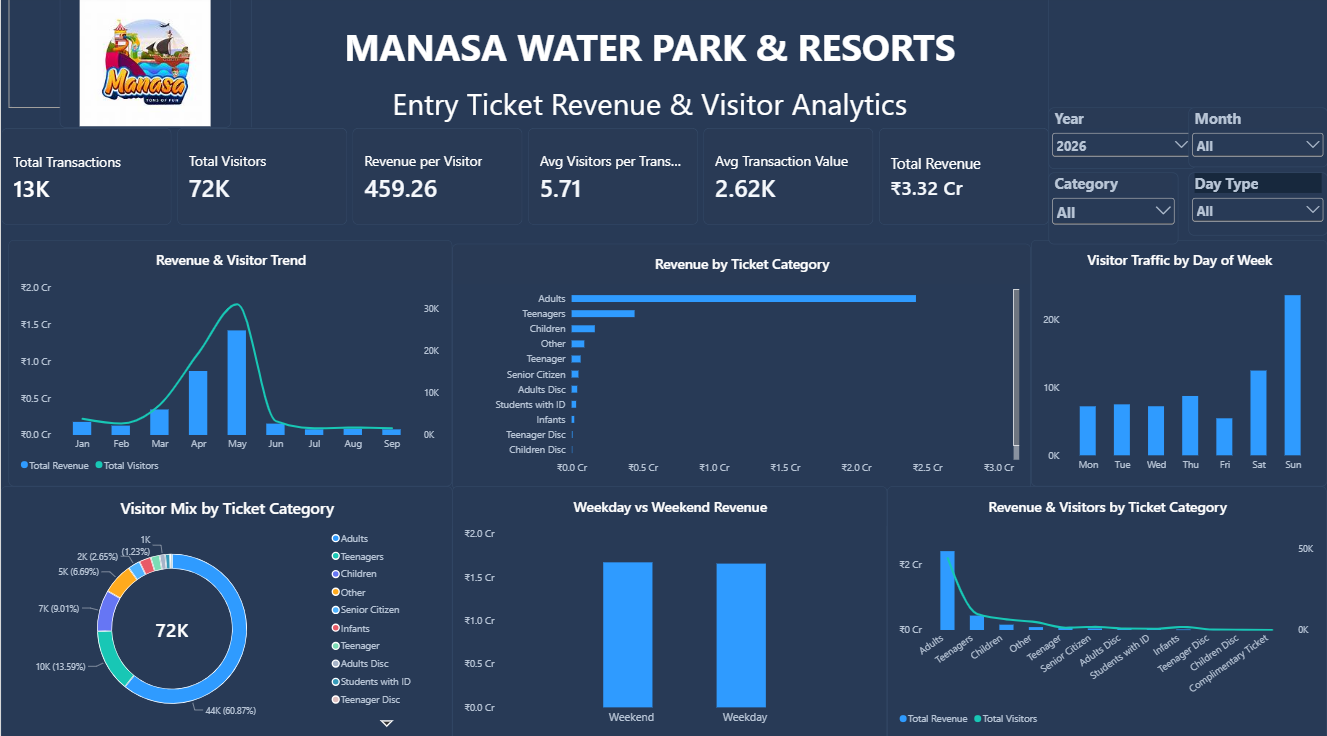

The dashboard page shown, as its layout file describes it:
{"tool":"powerbi","page":{"name":"Page 1","canvas":[1920,1080],"ordinal":0},"visuals":[{"type":"textbox","box":[10.9,0,148.4,162.9],"z":0},{"type":"textbox","box":[361.5,0,1155.2,206.6],"z":1000},{"type":"cardVisual","fields":{"Data":["Ticket Wise Sales (2).Total Transactions","Ticket Wise Sales (2).Total Visitors","Ticket Wise Sales (2).Revenue per Visitor","Ticket Wise Sales (2).Avg Visitors per Transaction","Ticket Wise Sales (2).Avg Transaction Value","2026.Total Revenue Cr"]},"box":[0,191.8,1519.2,142.8],"z":2000},{"type":"lineClusteredColumnComboChart","title":"Revenue & Visitor Trend","fields":{"Category":["Calendar.Month"],"Y":["2026.Total Revenue Cr"],"Y2":["Ticket Wise Sales (2).Total Visitors"]},"box":[10.8,354.9,642.8,357.1],"z":3000},{"type":"clusteredBarChart","title":"Revenue by Ticket Category","fields":{"Category":["All Ticket Sales.Category"],"Y":["2026.Total Revenue Cr"]},"box":[653.3,360.1,837.9,356.5],"z":4000},{"type":"donutChart","title":"Visitor Mix by Ticket Category","fields":{"Category":["All Ticket Sales.Category"],"Y":["Ticket Wise Sales (2).Total Visitors"]},"box":[0,712,653.6,367.9],"z":5000},{"type":"columnChart","title":"Weekday vs Weekend Revenue","fields":{"Category":["Calendar.Day Type"],"Y":["2026.Total Revenue Cr"]},"box":[653.6,712,629.8,367.9],"z":6000},{"type":"columnChart","title":"Visitor Traffic by Day of Week","fields":{"Category":["Calendar.Day Name"],"Y":["Ticket Wise Sales (2).Total Visitors"]},"box":[1491.2,354.7,428.9,356.5],"z":7000},{"type":"lineStackedColumnComboChart","title":"Revenue & Visitors by Ticket Category","fields":{"Category":["All Ticket Sales.Category"],"Y":["2026.Total Revenue Cr"],"Y2":["Ticket Wise Sales (2).Total Visitors"]},"box":[1283.3,712,636.3,367.9],"z":8000},{"type":"slicer","fields":{"Values":["Calendar.Year"]},"box":[1516.5,162.9,213.5,88.7],"z":9000},{"type":"slicer","fields":{"Values":["Calendar.Month"]},"box":[1718.3,162.3,201.3,86.6],"z":10000},{"type":"slicer","fields":{"Values":["Ticket Wise Sales (2).Category"]},"box":[1517.1,257.5,188.3,103.9],"z":11000},{"type":"slicer","fields":{"Values":["Calendar.Day Type"]},"box":[1718.3,257.5,201.3,90.9],"z":12000},{"type":"image","box":[85.1,0,247.9,191.8],"z":13000}]}

Visuals, with their boxes in screenshot pixels (x1, y1, x2, y2), scaled from the page's 1920x1080 canvas onto the 1327x736 screenshot:
textbox: x1=8, y1=0, x2=110, y2=111
textbox: x1=250, y1=0, x2=1048, y2=141
cardVisual - Ticket Wise Sales (2).Total Transactions x Ticket Wise Sales (2).Total Visitors: x1=0, y1=131, x2=1050, y2=228
"Revenue & Visitor Trend" lineClusteredColumnComboChart: x1=7, y1=242, x2=452, y2=485
"Revenue by Ticket Category" clusteredBarChart: x1=452, y1=245, x2=1031, y2=488
"Visitor Mix by Ticket Category" donutChart: x1=0, y1=485, x2=452, y2=735
"Weekday vs Weekend Revenue" columnChart: x1=452, y1=485, x2=887, y2=735
"Visitor Traffic by Day of Week" columnChart: x1=1031, y1=242, x2=1326, y2=485
"Revenue & Visitors by Ticket Category" lineStackedColumnComboChart: x1=887, y1=485, x2=1326, y2=735
slicer - Calendar.Year: x1=1048, y1=111, x2=1196, y2=171
slicer - Calendar.Month: x1=1188, y1=111, x2=1326, y2=170
slicer - Ticket Wise Sales (2).Category: x1=1049, y1=175, x2=1179, y2=246
slicer - Calendar.Day Type: x1=1188, y1=175, x2=1326, y2=237
image: x1=59, y1=0, x2=230, y2=131
